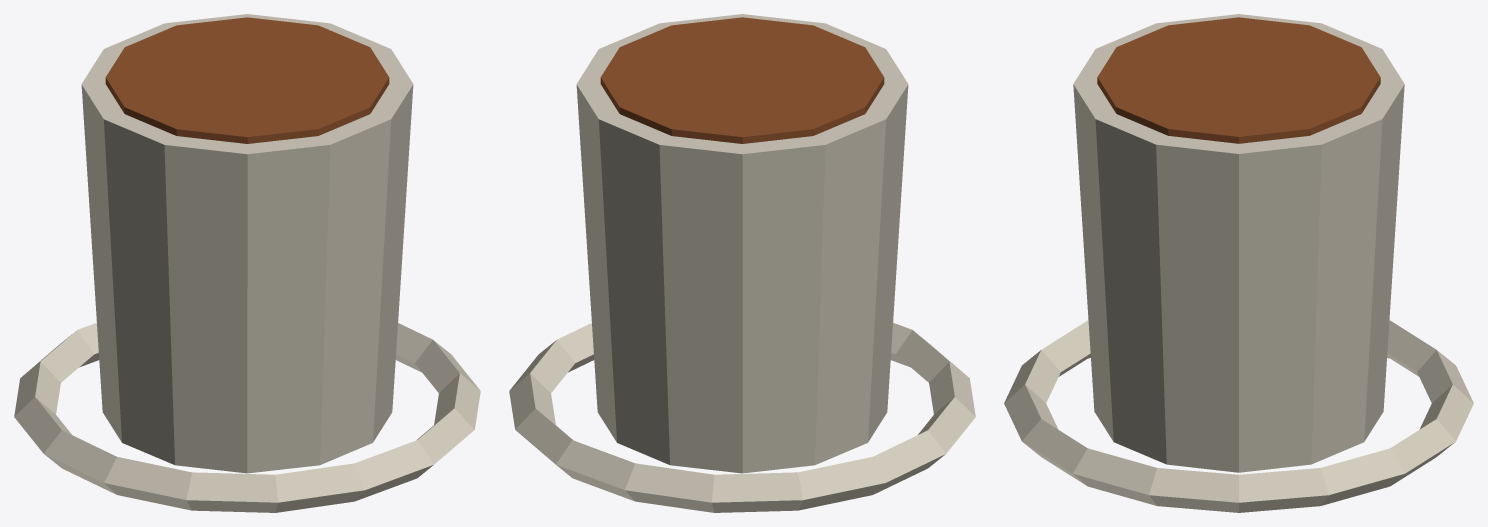
Rendered from commons-coffee-cup.glb.
The picture shows the model from 3 angles, left to right: view 1: azimuth 30°, elevation 25°; view 2: azimuth 150°, elevation 25°; view 3: azimuth 270°, elevation 25°; orthographic projection.
Visible parts, largest first — view 1: FURN_CoffeeCup.039, FURN_Coffee.039, FURN_Saucer.039; view 2: FURN_CoffeeCup.039, FURN_Coffee.039, FURN_Saucer.039; view 3: FURN_CoffeeCup.039, FURN_Coffee.039, FURN_Saucer.039.
Boxes of the visible parts, x1,y1,x2,y2 form: FURN_CoffeeCup.039: (81, 14, 413, 473); FURN_Coffee.039: (105, 17, 389, 143); FURN_Saucer.039: (14, 322, 480, 512); FURN_CoffeeCup.039: (576, 14, 908, 473); FURN_Coffee.039: (600, 17, 884, 143); FURN_Saucer.039: (509, 322, 975, 512); FURN_CoffeeCup.039: (1073, 14, 1404, 472); FURN_Coffee.039: (1097, 17, 1380, 143); FURN_Saucer.039: (1004, 320, 1473, 512).
Bounding box in the file's own units: 0.156 × 0.1265 × 0.156.
